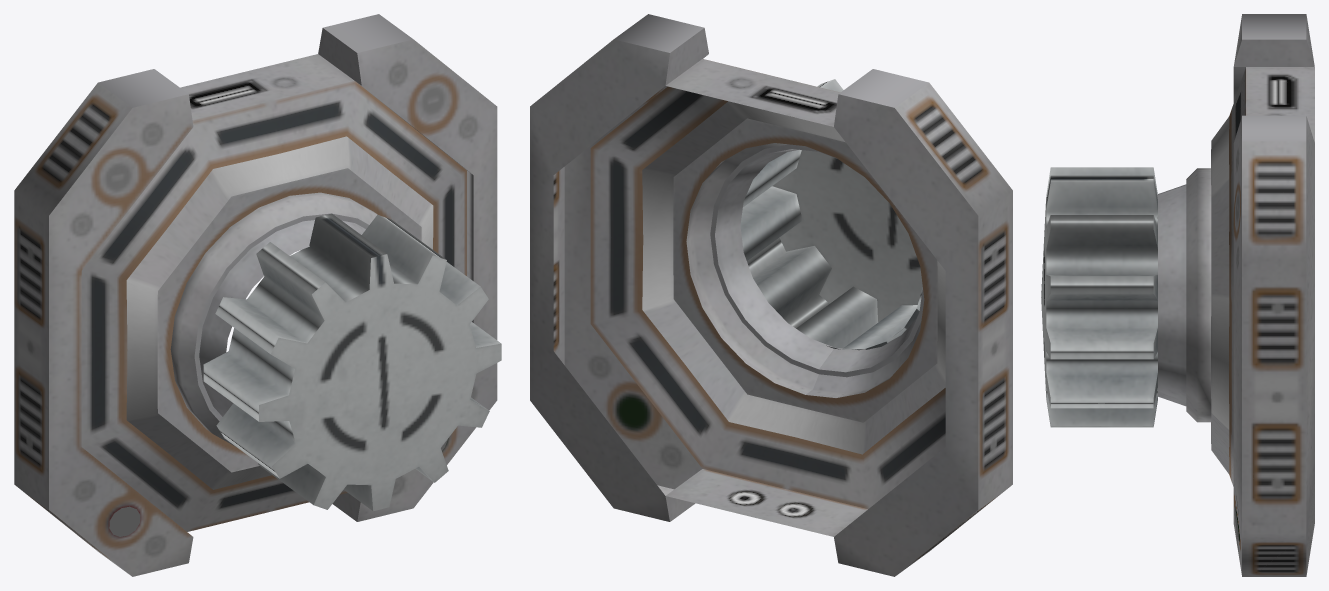
Rendered from Rotary A1C.fbx.
The picture shows the model from 3 angles, left to right: view 1: azimuth 30°, elevation 25°; view 2: azimuth 150°, elevation 25°; view 3: azimuth 270°, elevation 25°; orthographic projection. The views are drawn at different scales.
Parts seen in each view (by area): view 1: Rotary A1C, RotaryHandle A1C, Rotary A1C LightRed; view 2: Rotary A1C, RotaryHandle A1C; view 3: Rotary A1C, RotaryHandle A1C.
Part boxes in pixels (<box>): Rotary A1C: <box>14,14,497,576</box>; RotaryHandle A1C: <box>203,213,501,511</box>; Rotary A1C LightRed: <box>109,506,140,536</box>; Rotary A1C: <box>530,14,1012,576</box>; RotaryHandle A1C: <box>740,79,922,350</box>; Rotary A1C: <box>1157,14,1314,576</box>; RotaryHandle A1C: <box>1041,167,1157,427</box>.
Size of the model in its own units: 16.08 by 16.08 by 9.16.
3 materials, 1 textured.
